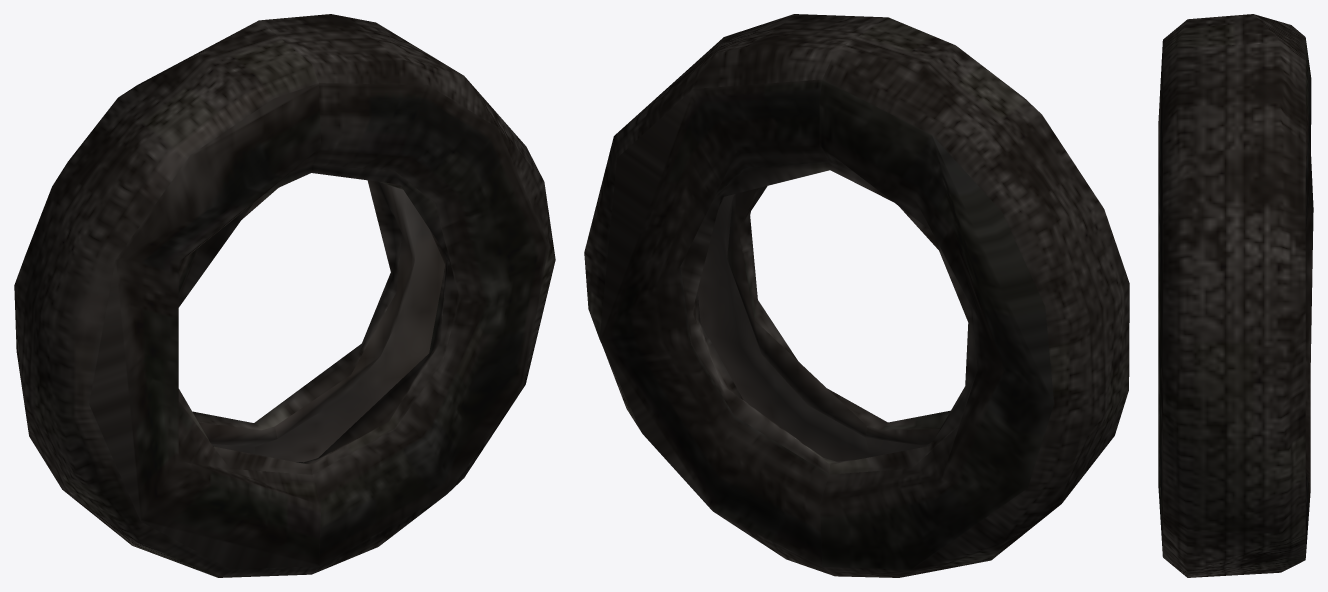
File: old_tyre.glb
The picture shows the model from 3 angles, left to right: view 1: azimuth 30°, elevation 25°; view 2: azimuth 150°, elevation 25°; view 3: azimuth 270°, elevation 25°; orthographic projection. The views are drawn at different scales.
Parts seen in each view (by area): view 1: old_tyre; view 2: old_tyre; view 3: old_tyre.
Boxes of the visible parts, left/top/right/bottom form: old_tyre: left=14, top=14, right=555, bottom=577; old_tyre: left=584, top=14, right=1129, bottom=577; old_tyre: left=1158, top=14, right=1313, bottom=577.
Size of the model in its own units: 0.5887 by 0.5889 by 0.1619.
Materials: 1 (1 with a texture image).
